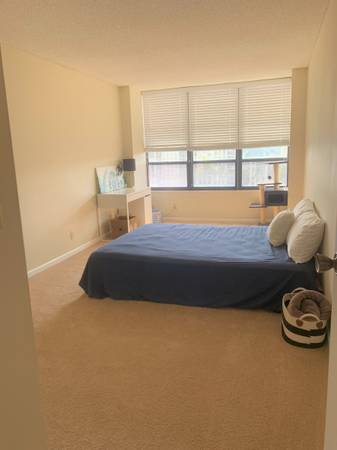bed: (89, 224, 324, 313)
